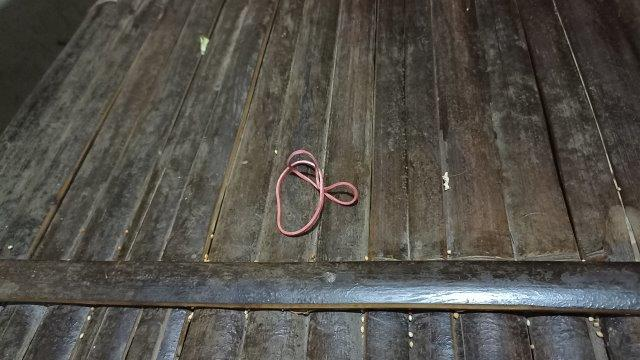karet: (275, 150, 359, 236)
